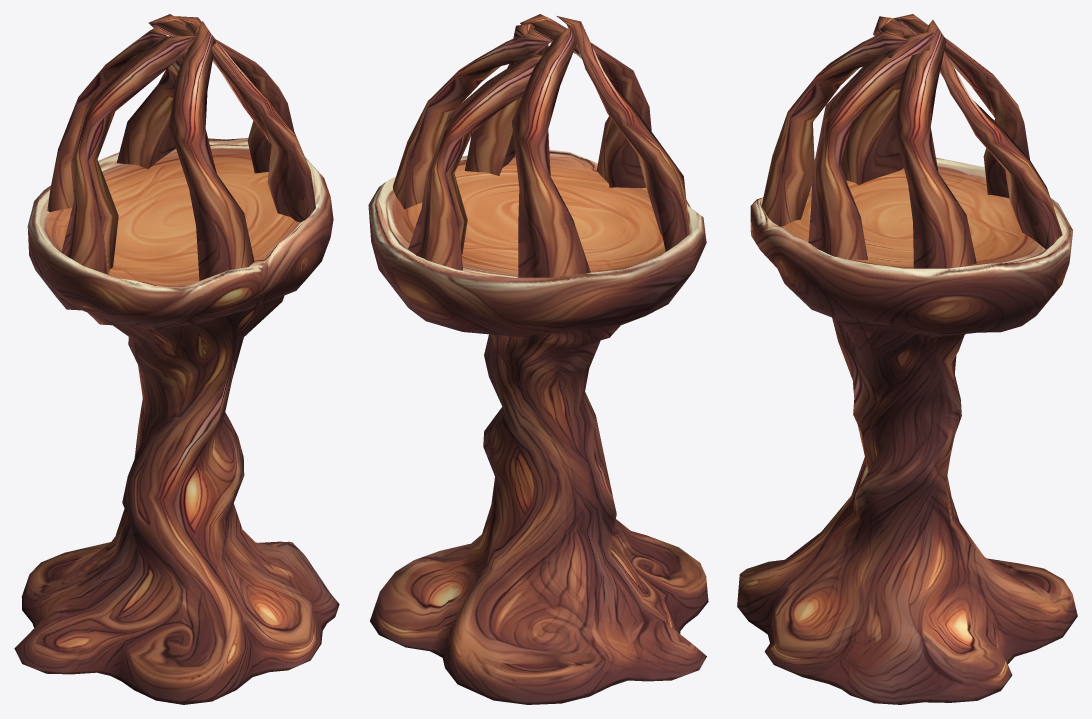
File: PotionTable.glb
3 views of the same model, side by side, from view 1: azimuth 30°, elevation 25°; view 2: azimuth 150°, elevation 25°; view 3: azimuth 270°, elevation 25° (orthographic).
Parts seen in each view (by area): view 1: PotionTable; view 2: PotionTable; view 3: PotionTable.
Part boxes in pixels (left/top/right/bottom): PotionTable: left=14, top=14, right=339, bottom=704; PotionTable: left=368, top=14, right=708, bottom=704; PotionTable: left=737, top=14, right=1077, bottom=704.
Size of the model in its own units: 0.6549 by 1.24 by 0.6333.
1 material, 1 textured.
